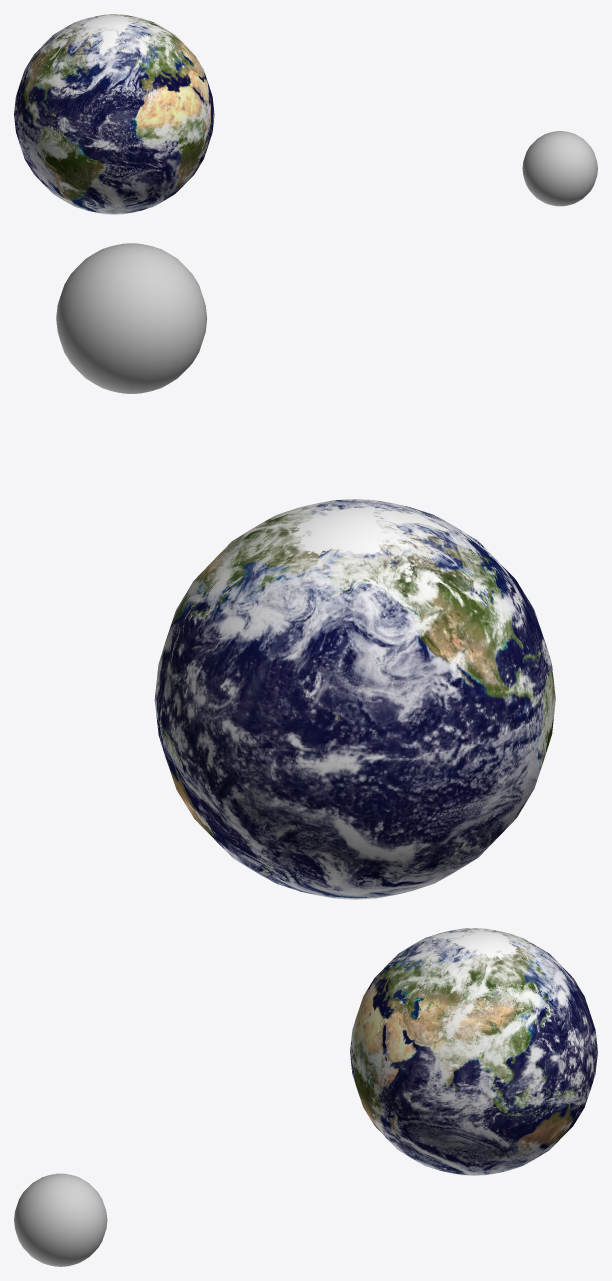
Rendered from Earth Moon_v01.fbx.
3 views of the same model, one above another, from view 1: azimuth 30°, elevation 25°; view 2: azimuth 150°, elevation 25°; view 3: azimuth 270°, elevation 25° (orthographic). The views are drawn at different scales.
Parts seen in each view (by area): view 1: earth_4_1, moon_2_1; view 2: earth_4_1, moon_2_1; view 3: earth_4_1, moon_2_1.
Boxes of the visible parts, bbox=[...] form: earth_4_1: bbox=[14, 14, 214, 214]; moon_2_1: bbox=[522, 131, 597, 206]; earth_4_1: bbox=[154, 499, 555, 899]; moon_2_1: bbox=[56, 243, 207, 393]; earth_4_1: bbox=[350, 928, 597, 1175]; moon_2_1: bbox=[14, 1173, 107, 1266].
Bounding box in the file's own units: 155 × 67.51 × 159.
